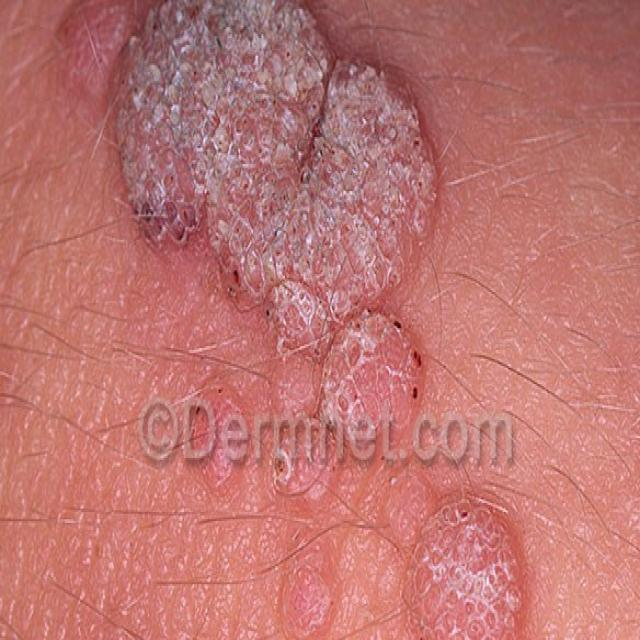Warts: (64, 0, 444, 451), (389, 487, 569, 640), (270, 528, 348, 640)
